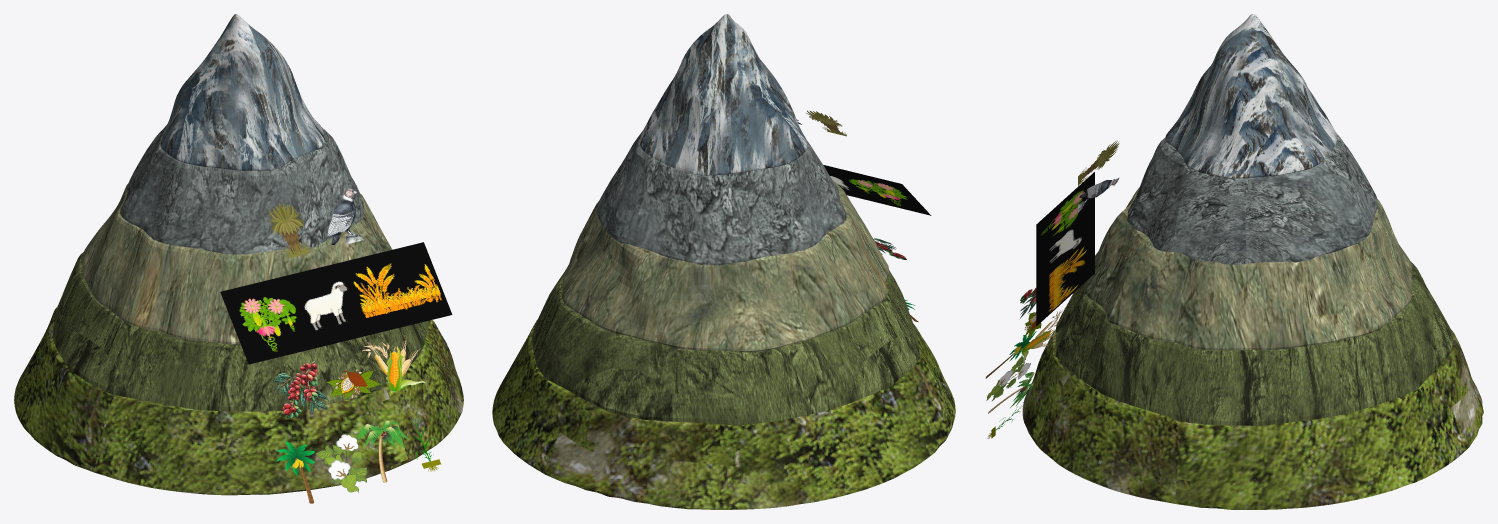
The model's file is pisos_termicos.fbx.
3 views of the same model, side by side, from view 1: azimuth 30°, elevation 25°; view 2: azimuth 150°, elevation 25°; view 3: azimuth 270°, elevation 25° (orthographic). The views are drawn at different scales.
Parts seen in each view (by area): view 1: polySurface329, polySurface332, polySurface334, polySurface336, polySurface331; view 2: polySurface329, polySurface332; view 3: polySurface329, polySurface332, polySurface336, polySurface334, polySurface331.
Boxes of the visible parts, x1,y1,x2,y2 form: polySurface329: (14,14,463,495); polySurface332: (220,242,452,364); polySurface334: (272,338,425,418); polySurface336: (276,410,441,503); polySurface331: (268,187,363,257); polySurface329: (492,14,955,509); polySurface332: (823,165,931,215); polySurface329: (1022,14,1483,509); polySurface332: (1036,172,1094,326); polySurface336: (985,331,1036,438); polySurface334: (1019,288,1064,365); polySurface331: (1078,140,1119,212).
Bounding box in the file's own units: 2.72 × 2.94 × 2.59.
